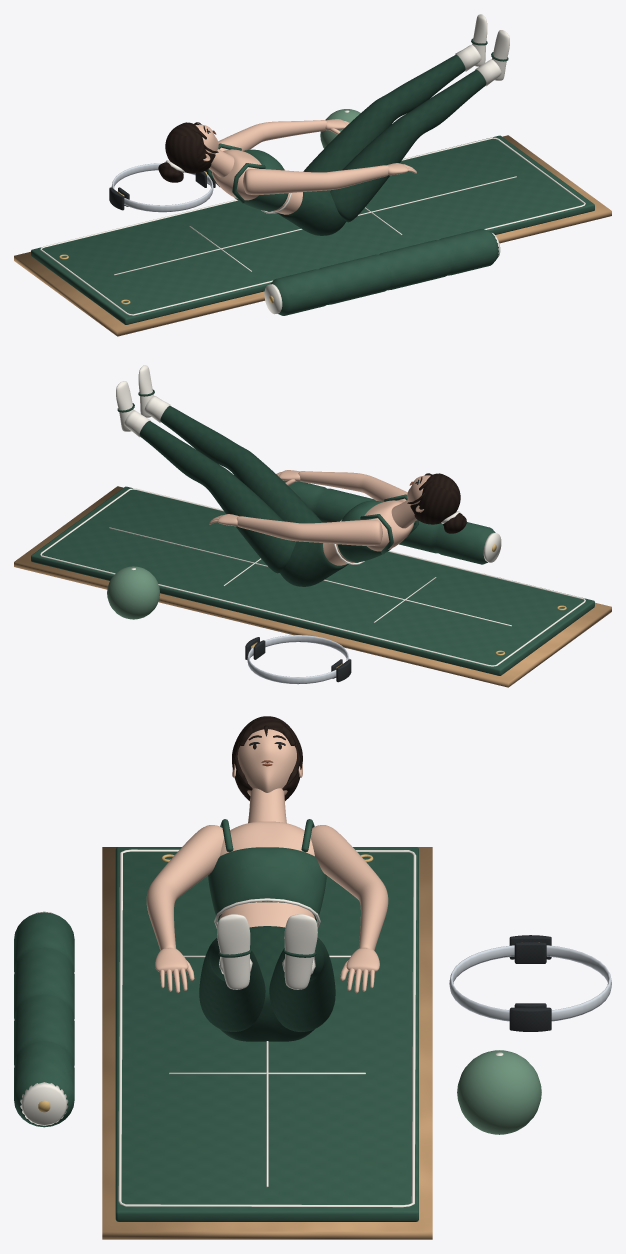
The model's file is mat-studio-rig.glb.
3 views of the same model, one above another, from view 1: azimuth 30°, elevation 25°; view 2: azimuth 150°, elevation 25°; view 3: azimuth 270°, elevation 25° (orthographic). The views are drawn at different scales.
Parts seen in each view (by area): view 1: SM_Studio_Dielectric, SM_Studio_Metallic; view 2: SM_Studio_Dielectric, SM_Studio_Metallic; view 3: SM_Studio_Dielectric, SM_Studio_Metallic.
Boxes of the visible parts, box(x1,y1,x2,y2) form: SM_Studio_Dielectric: box(14, 14, 611, 336); SM_Studio_Metallic: box(59, 163, 273, 304); SM_Studio_Dielectric: box(14, 365, 611, 687); SM_Studio_Metallic: box(247, 544, 566, 684); SM_Studio_Dielectric: box(14, 716, 551, 1239); SM_Studio_Metallic: box(38, 854, 611, 1112).
Size of the model in its own units: 2.04 by 0.6758 by 1.34.
Materials: 2 (2 with a texture image).
